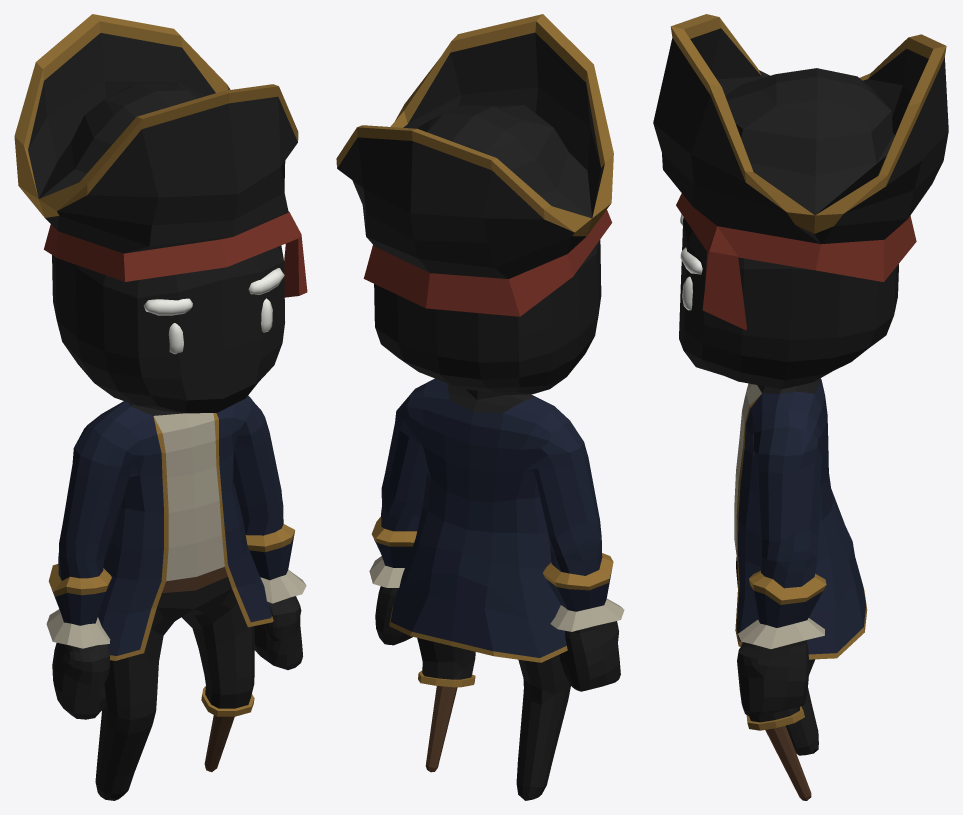
File: Pirate_Male.glb
The picture shows the model from 3 angles, left to right: view 1: azimuth 30°, elevation 25°; view 2: azimuth 150°, elevation 25°; view 3: azimuth 270°, elevation 25°; orthographic projection. The views are drawn at different scales.
Visible parts, largest first — view 1: Body_Cube.004; view 2: Body_Cube.004; view 3: Body_Cube.004.
Part boxes in pixels (x1,y1,x2,y2): Body_Cube.004: (14, 14, 307, 800); Body_Cube.004: (336, 14, 624, 800); Body_Cube.004: (653, 14, 948, 800).
Size of the model in its own units: 1.33 by 3.76 by 1.34.
